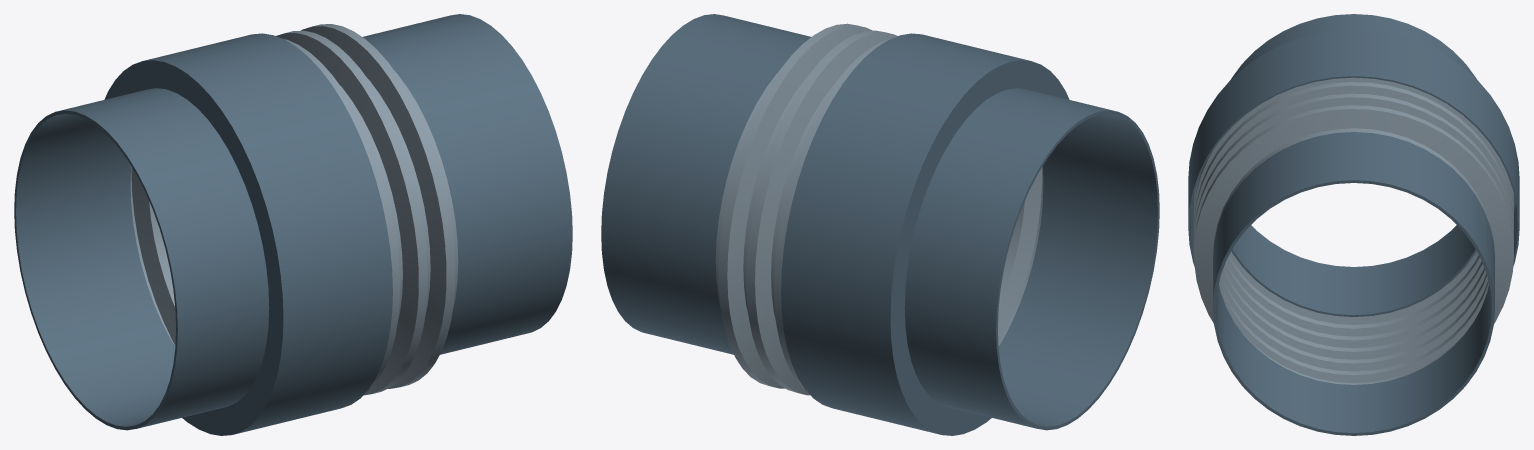
Rendered from silf-dn800-L1142-D820-k-o1010.glb.
3 renders of one model, left to right at view 1: azimuth 30°, elevation 25°; view 2: azimuth 150°, elevation 25°; view 3: azimuth 270°, elevation 25°, orthographic. The views are drawn at different scales.
Parts seen in each view (by area): view 1: patrubok_1, osnovanie_kozhuh_1, patrubok_2, prokladka_silfon_1; view 2: patrubok_1, osnovanie_kozhuh_1, patrubok_2, prokladka_silfon_1; view 3: prokladka_silfon_1, patrubok_2, osnovanie_kozhuh_1, patrubok_1.
Part boxes in pixels (x1,y1,x2,y2): patrubok_1: (14, 88, 269, 430); osnovanie_kozhuh_1: (104, 33, 392, 435); patrubok_2: (363, 14, 572, 354); prokladka_silfon_1: (130, 24, 458, 395); patrubok_1: (904, 88, 1159, 430); osnovanie_kozhuh_1: (781, 33, 1069, 435); patrubok_2: (601, 14, 810, 354); prokladka_silfon_1: (715, 23, 1043, 395); prokladka_silfon_1: (1194, 77, 1513, 384); patrubok_2: (1213, 132, 1494, 435); osnovanie_kozhuh_1: (1188, 30, 1519, 266); patrubok_1: (1231, 14, 1476, 316).
Bounding box in the file's own units: 1142 × 963 × 963.
